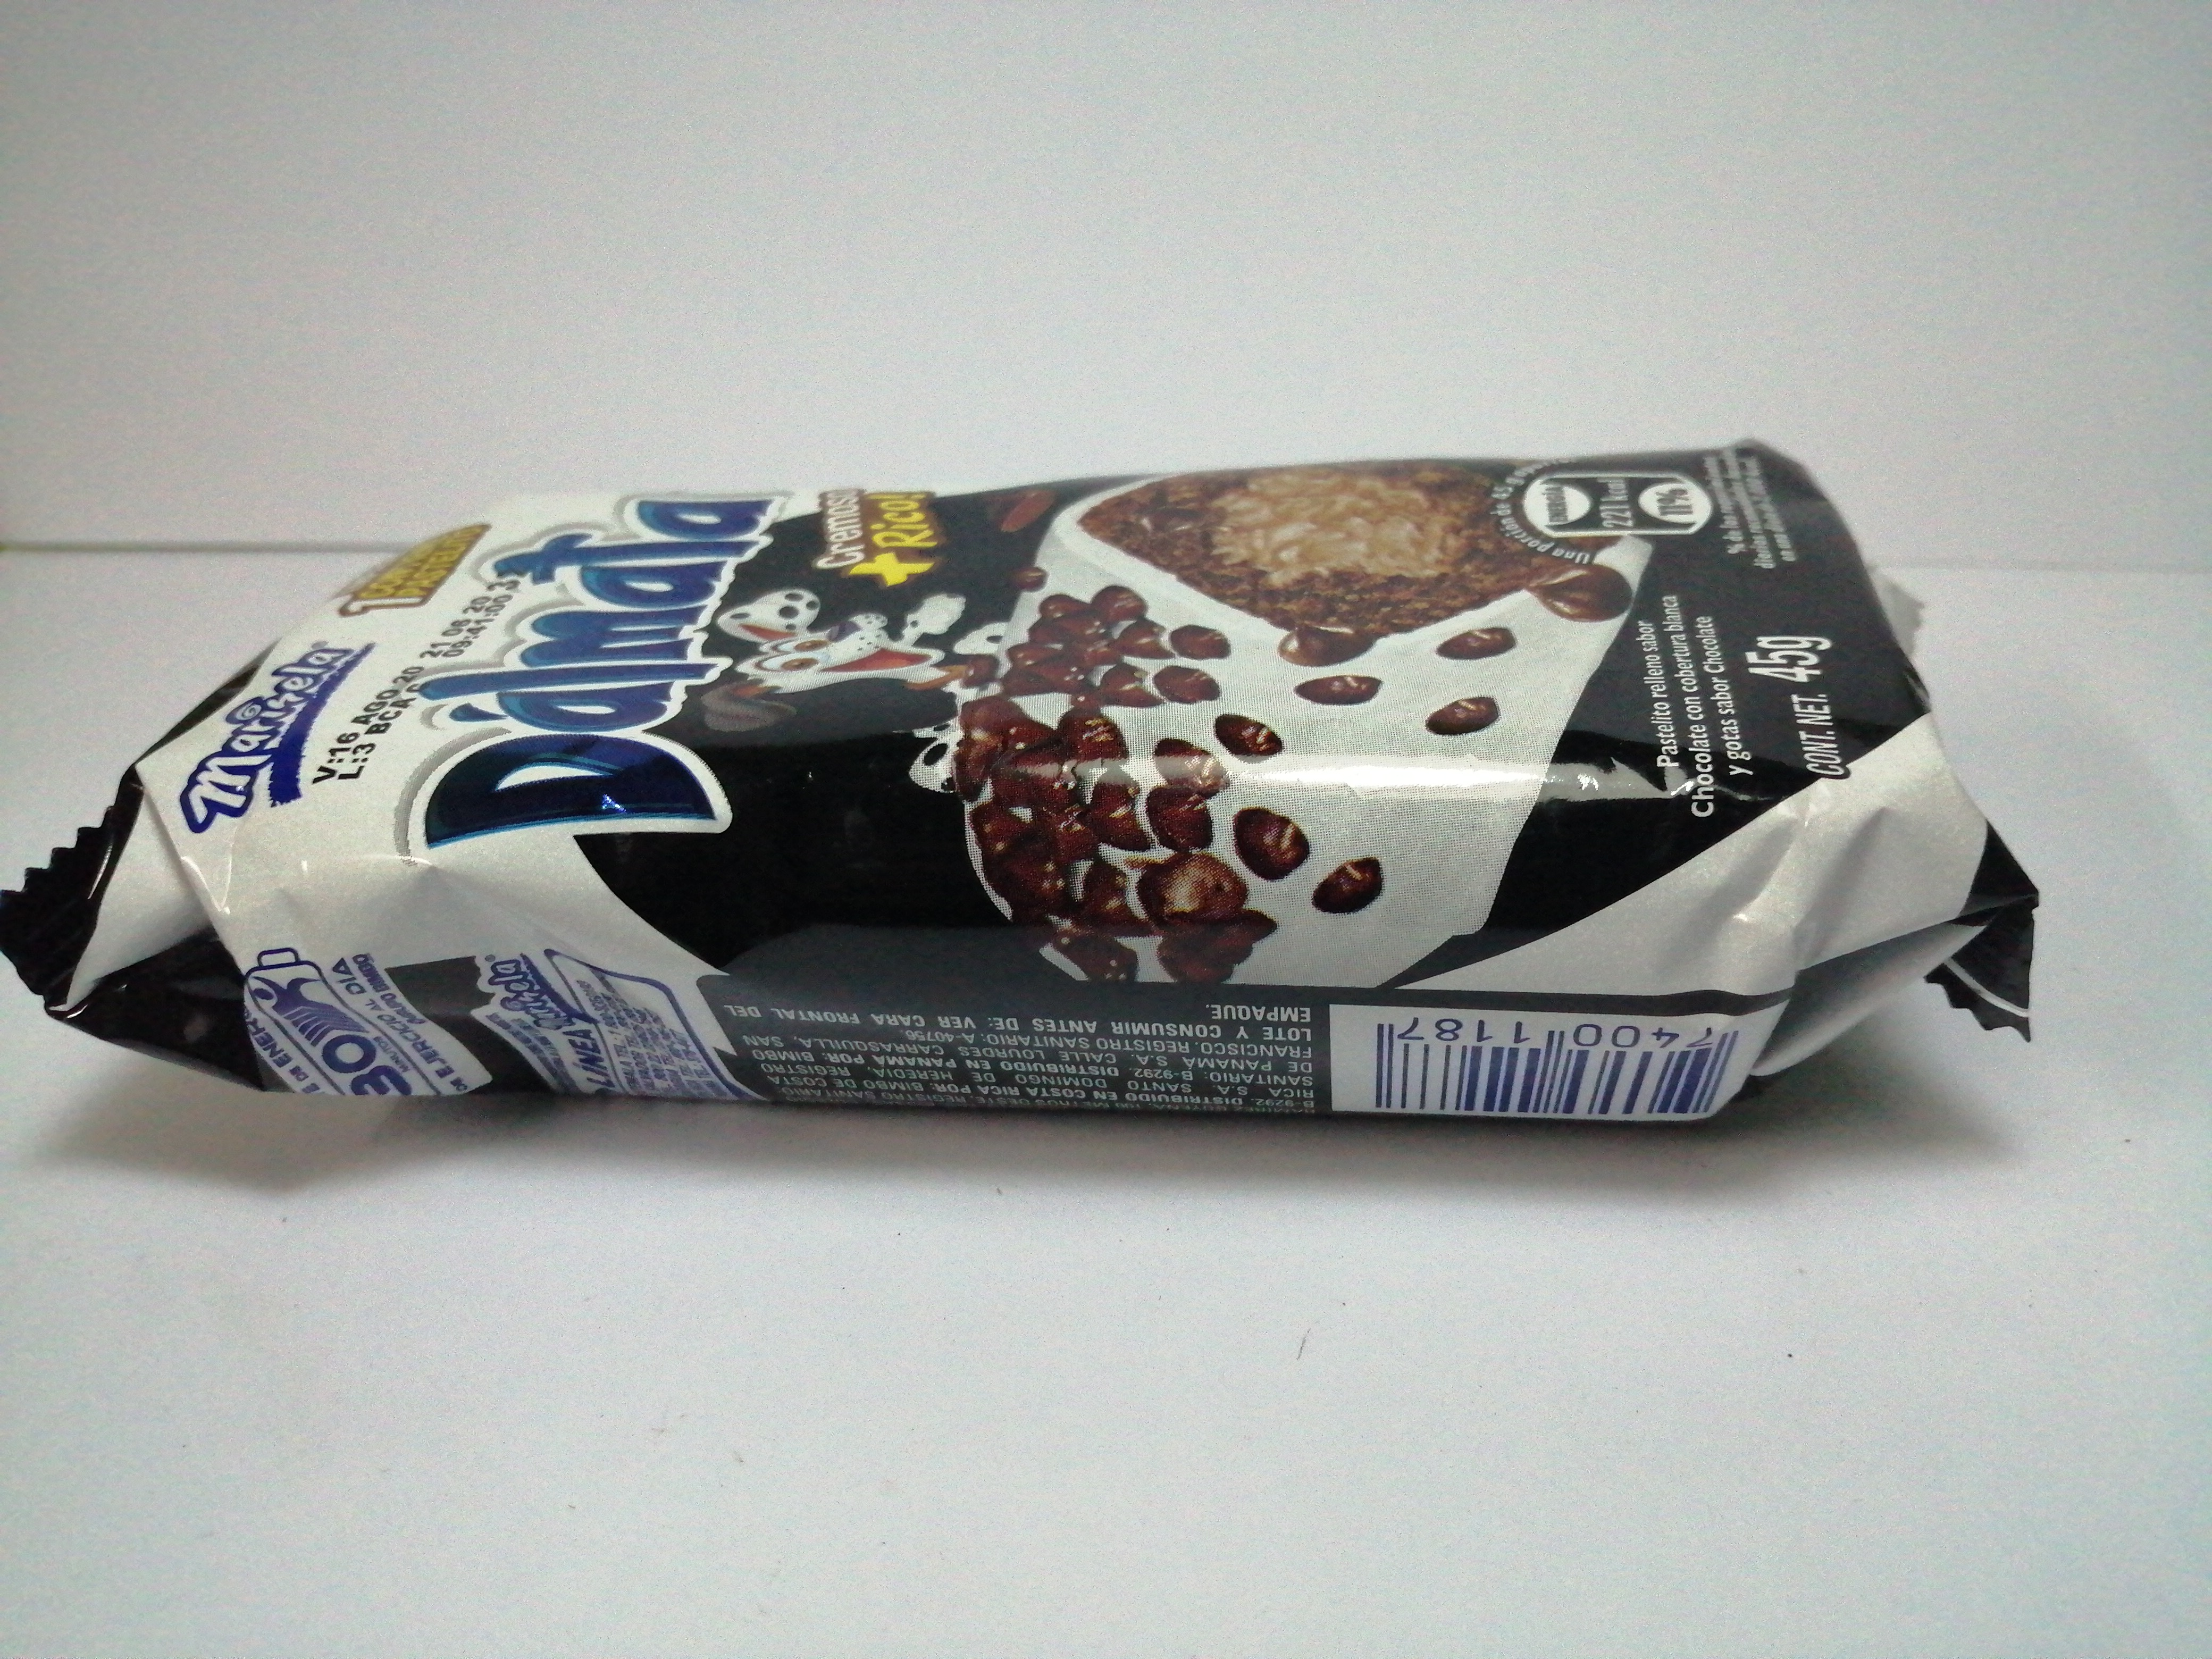dalmata: (12, 436, 2045, 1145)
